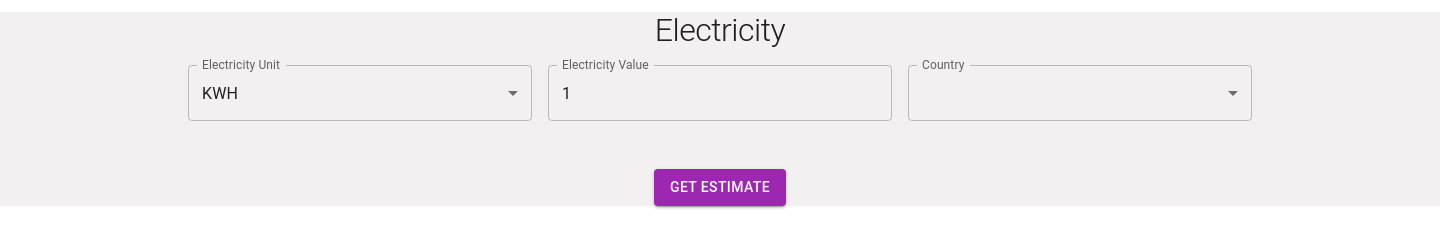
Test: ElectricityForm › allows changing electricity unit
The width and height of the screenshot is (1440, 239).
Press the mouse on the dropdown named "Electricity Unit" at [220, 93], box [202, 84, 238, 103]
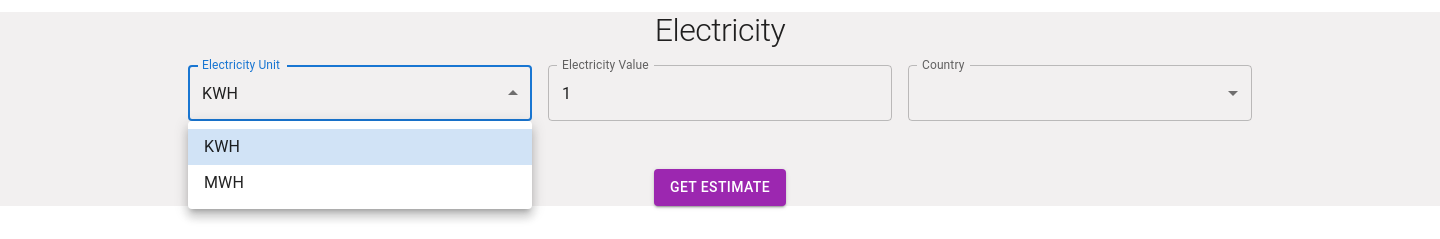
Click the option "MWH" at [224, 182], box [204, 173, 244, 192]
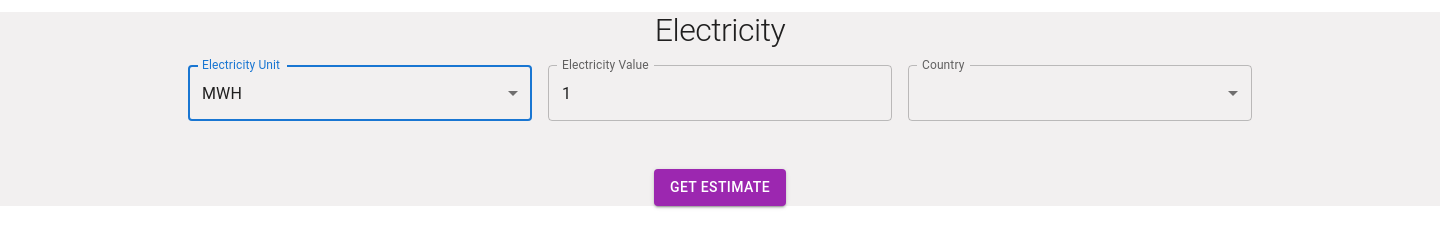
expect the dropdown named "Electricity Unit" reads "MWH": met, box [202, 84, 242, 103]
